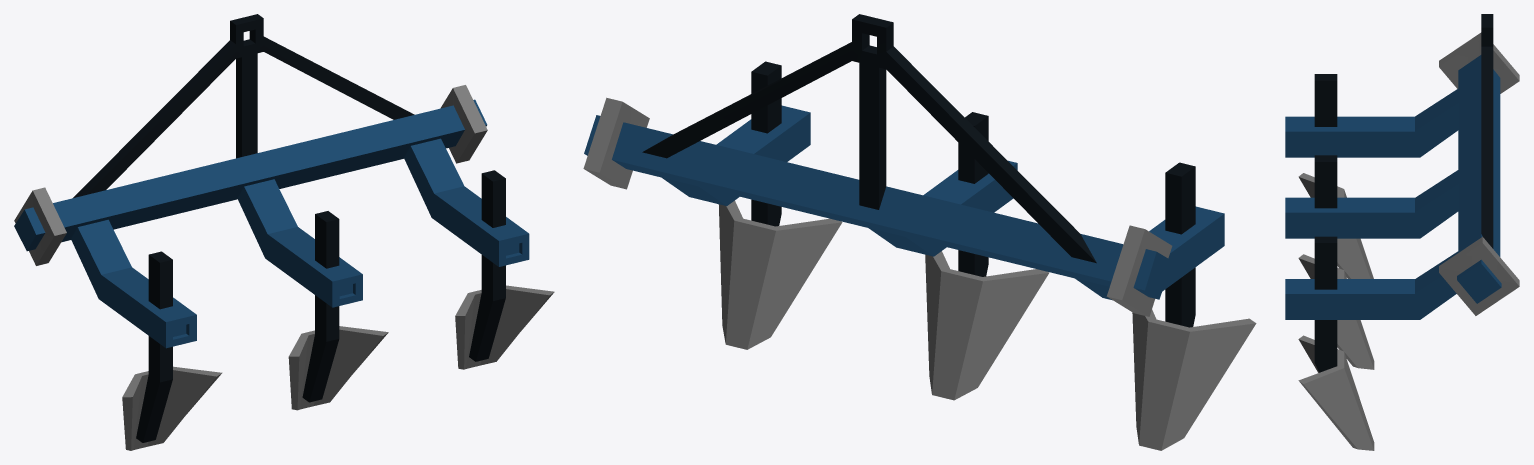
File: Agricultural_Machine_1_2.fbx
The picture shows the model from 3 angles, left to right: view 1: azimuth 30°, elevation 25°; view 2: azimuth 150°, elevation 25°; view 3: azimuth 270°, elevation 25°; orthographic projection. The views are drawn at different scales.
Visible parts, largest first — view 1: Agricultural_Machine_1_2; view 2: Agricultural_Machine_1_2; view 3: Agricultural_Machine_1_2.
Boxes of the visible parts, box(x1,y1,x2,y2) form: Agricultural_Machine_1_2: box(14, 14, 554, 450); Agricultural_Machine_1_2: box(583, 14, 1256, 450); Agricultural_Machine_1_2: box(1285, 14, 1519, 450).
Size of the model in its own units: 97.13 by 70.86 by 43.66.
